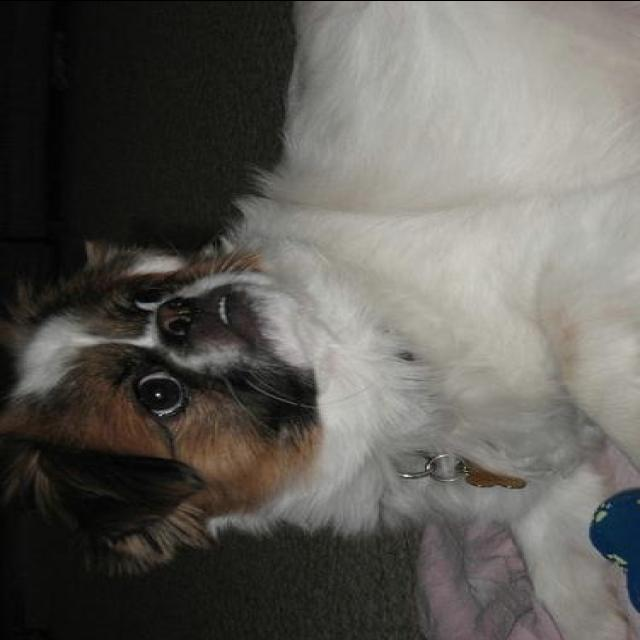pekinese: (11, 1, 638, 640)
